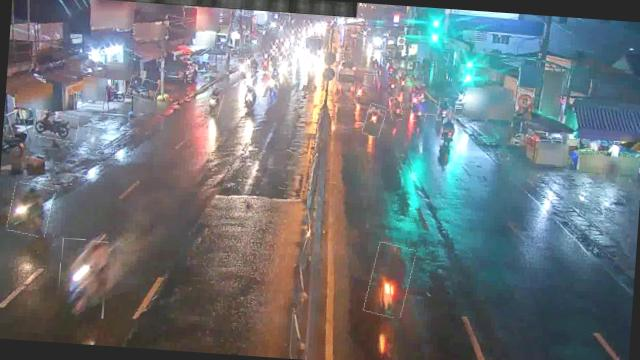Bike: (57, 239, 108, 318), (365, 242, 413, 318), (6, 183, 52, 237), (33, 110, 79, 140), (126, 76, 158, 101), (364, 102, 386, 136), (204, 86, 222, 118), (241, 84, 260, 111), (441, 118, 456, 148), (265, 71, 280, 96), (410, 98, 426, 121), (436, 98, 452, 121), (388, 97, 402, 121), (235, 57, 248, 80), (246, 68, 258, 90), (354, 81, 366, 103)
